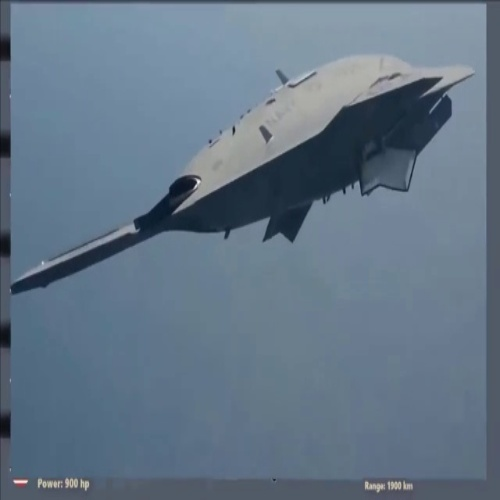uav856: (11, 49, 476, 300)
